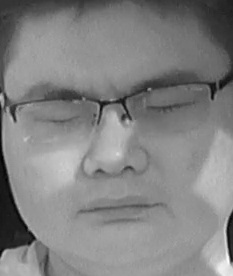blink: (38, 110, 78, 128), (148, 98, 192, 113)
glass: (119, 82, 212, 135), (11, 95, 101, 145)
mouth: (81, 193, 164, 226)
